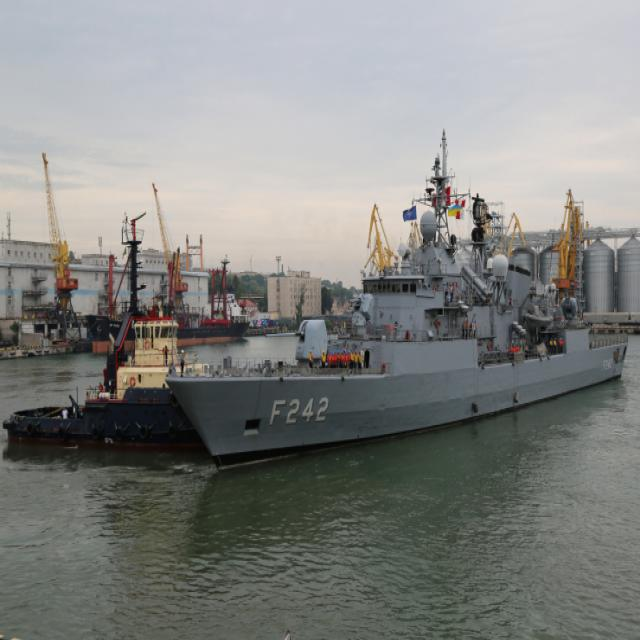Fragata: (164, 206, 638, 480)
